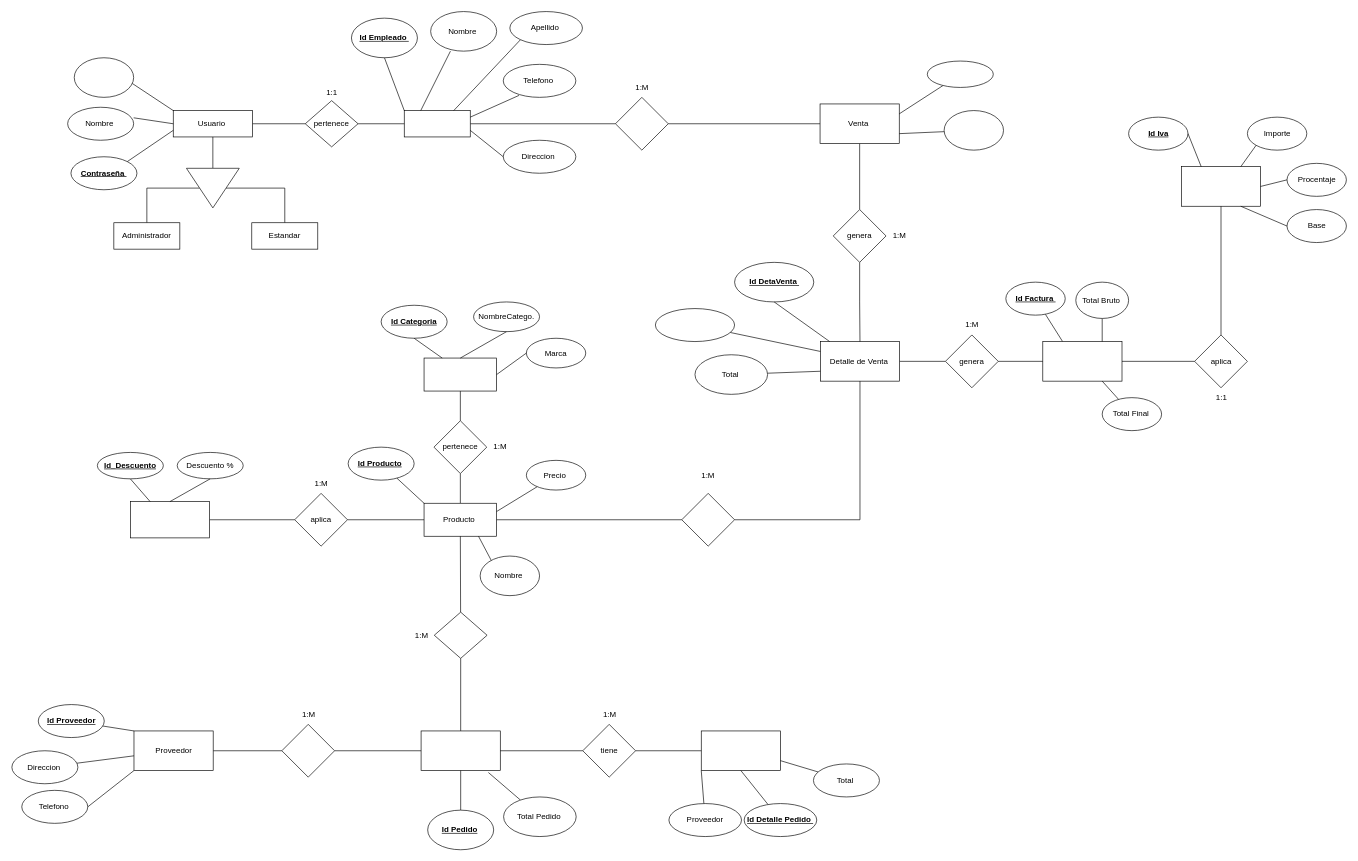
The diagram is 1358 pixels wide and 861 high, and some of its shapes have lost their labels. The box of each missing label's shape, as (x1, y1, x2, y2) in pixels:
Categoría: (423, 357, 497, 391)
Cliente: (655, 308, 735, 342)
Descuento: (130, 501, 210, 538)
detalle: (681, 493, 735, 546)
Detalle de Pedido: (701, 730, 780, 771)
Empleado: (404, 110, 470, 137)
Factura: (1042, 341, 1122, 381)
genrera: (434, 611, 487, 658)
hace: (615, 97, 668, 150)
Id Usuario: (74, 57, 134, 97)
Id Venta: (927, 60, 993, 87)
Iva: (1181, 166, 1261, 206)
Pedido: (420, 730, 500, 771)
Provee: (281, 724, 335, 777)
Total venta: (943, 110, 1004, 150)
